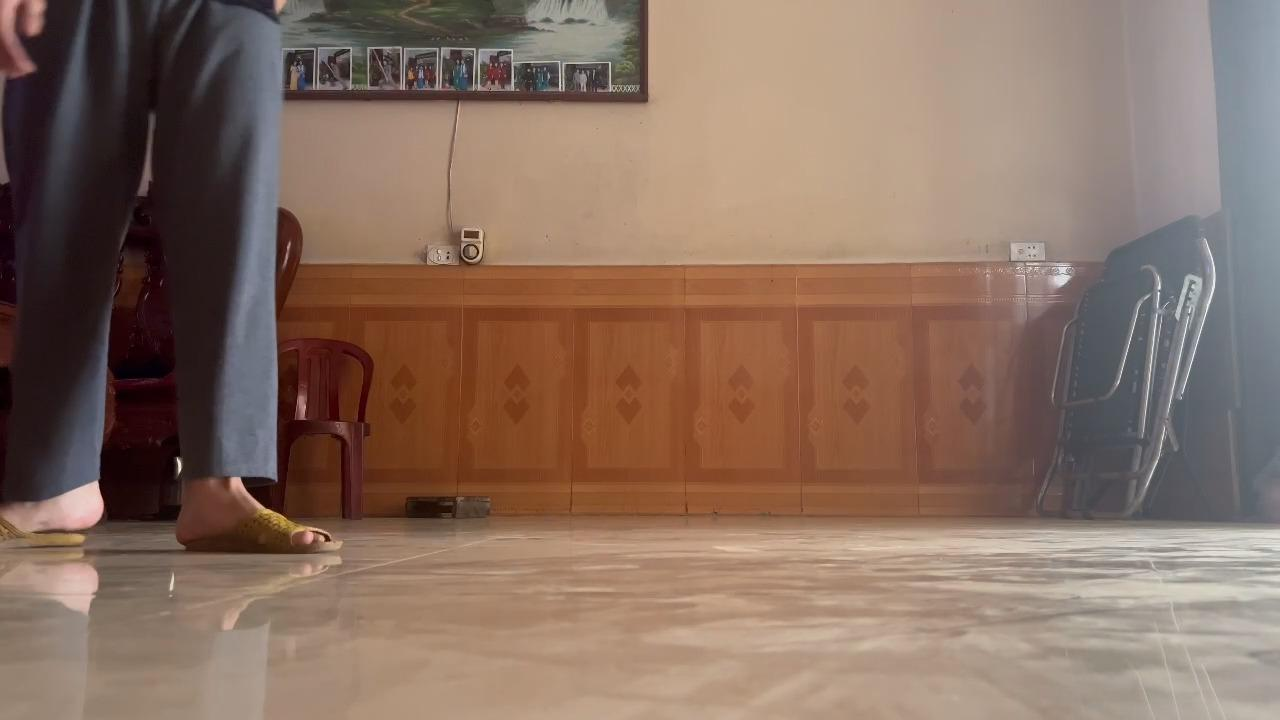no-boot: (166, 492, 355, 569), (0, 486, 127, 554)
